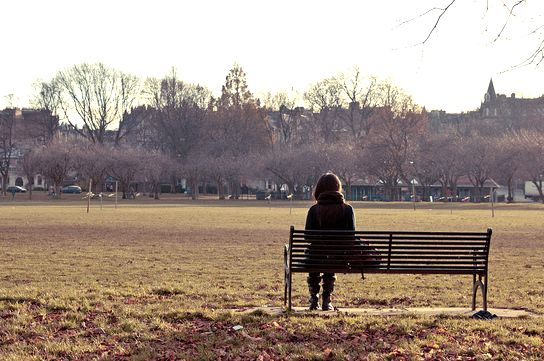Person: (302, 171, 356, 312)
